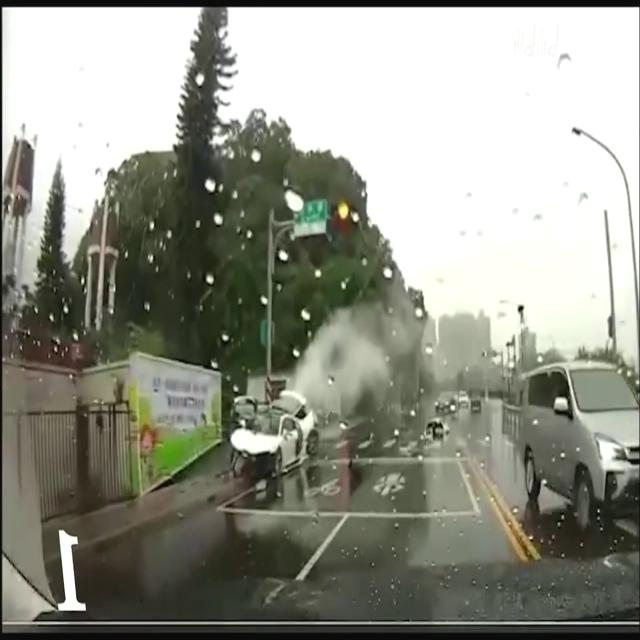accident: (228, 389, 318, 478)
